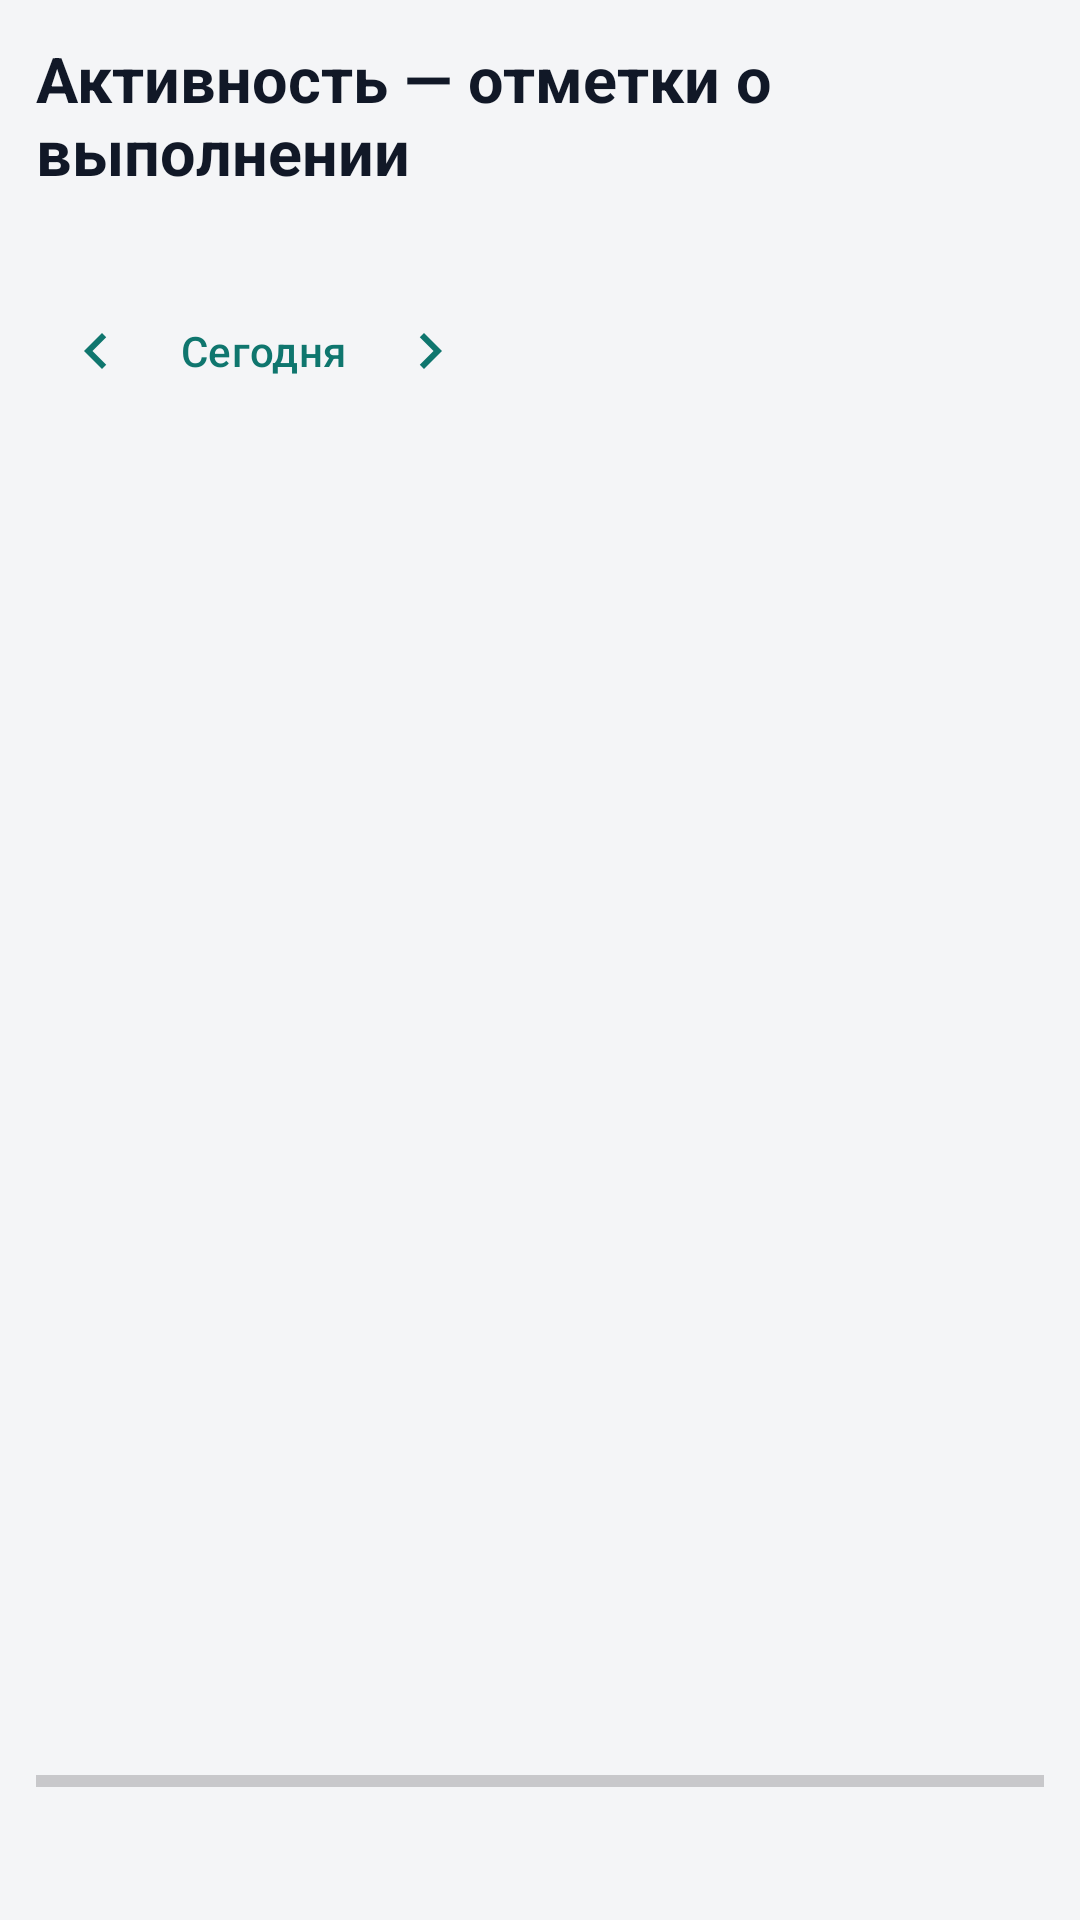

Named icons in this screenshot (1080 × 1920) and their centers, point (x, y):
Предыдущий день: point (95, 351)
Следующий день: point (431, 351)
